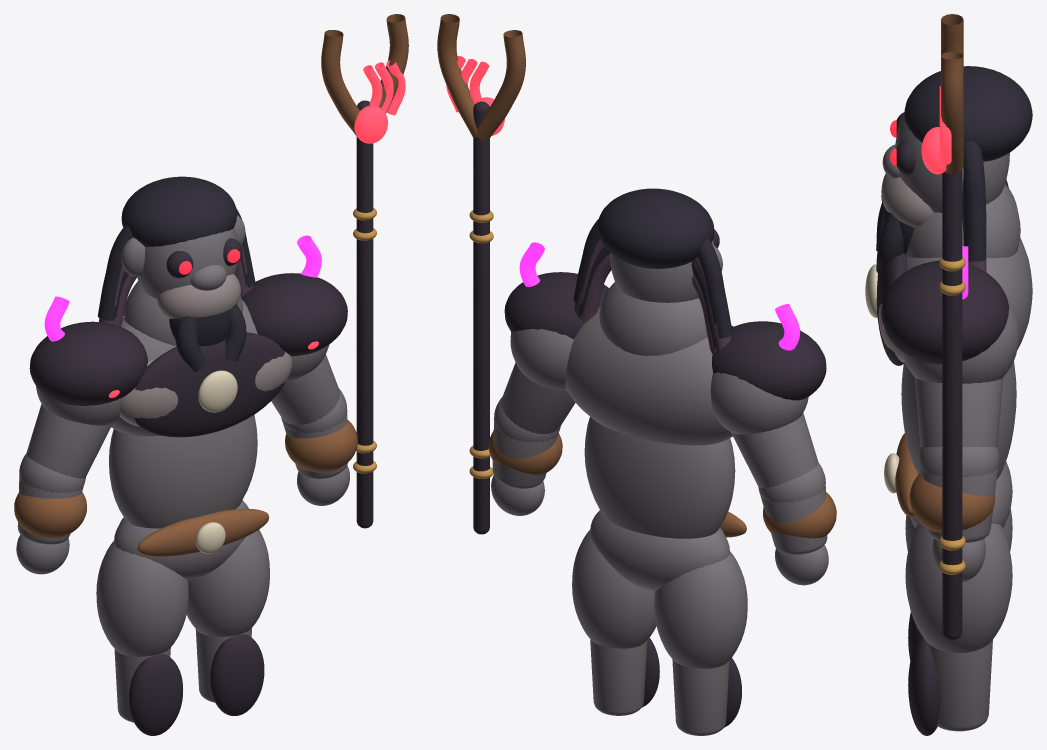
Rendered from HadesModel.fbx.
The picture shows the model from 3 angles, left to right: view 1: azimuth 30°, elevation 25°; view 2: azimuth 150°, elevation 25°; view 3: azimuth 270°, elevation 25°; orthographic projection. The views are drawn at different scales.
Parts seen in each view (by area): view 1: Abdomen, Thigh, Black Chest Armour, Massive Shoulder Armour, Bident Shaft, Massive Shoulder Armour.001, Hair Cap, Thigh.001, Upper Arm, Armoured Greave.001, Armoured Greave, Dark Bronze Belt (+33 smaller); view 2: Abdomen, Massive Chest, Thigh, Hair Cap, Bident Shaft, Thigh.001, Massive Shoulder Armour, Pelvis, Neck, Massive Shoulder Armour.001, Shoulder Muscle, Upper Arm (+22 smaller); view 3: Bident Shaft, Massive Shoulder Armour.001, Thigh.001, Hair Cap, Lower Leg.001, Upper Arm.001, Neck, Shoulder Muscle.001, Abdomen, Head, Long Hair Strand.004, Massive Chest (+23 smaller).
Part boxes in pixels (left/top/right/bottom): Abdomen: left=109, top=415, right=257, bottom=528; Thigh: left=96, top=541, right=188, bottom=656; Black Chest Armour: left=135, top=332, right=284, bottom=437; Massive Shoulder Armour: left=29, top=321, right=147, bottom=405; Bident Shaft: left=356, top=100, right=373, bottom=528; Massive Shoulder Armour.001: left=241, top=273, right=347, bottom=356; Hair Cap: left=121, top=176, right=236, bottom=246; Thigh.001: left=186, top=529, right=269, bottom=636; Upper Arm: left=26, top=404, right=112, bottom=478; Armoured Greave.001: left=210, top=634, right=264, bottom=715; Armoured Greave: left=129, top=654, right=183, bottom=735; Dark Bronze Belt: left=137, top=508, right=269, bottom=556; Abdomen: left=584, top=417, right=735, bottom=538; Massive Chest: left=565, top=307, right=732, bottom=445; Thigh: left=654, top=551, right=747, bottom=668; Hair Cap: left=597, top=188, right=714, bottom=268; Bident Shaft: left=473, top=101, right=489, bottom=534; Thigh.001: left=572, top=530, right=656, bottom=648; Massive Shoulder Armour: left=712, top=321, right=826, bottom=400; Pelvis: left=590, top=510, right=729, bottom=591; Neck: left=599, top=282, right=707, bottom=355; Massive Shoulder Armour.001: left=504, top=272, right=608, bottom=338; Shoulder Muscle: left=710, top=372, right=808, bottom=434; Upper Arm: left=731, top=413, right=818, bottom=488; Bident Shaft: left=942, top=170, right=962, bottom=640; Massive Shoulder Armour.001: left=881, top=260, right=1009, bottom=364; Thigh.001: left=905, top=523, right=1012, bottom=652; Hair Cap: left=904, top=66, right=1032, bottom=161; Lower Leg.001: left=925, top=640, right=992, bottom=731; Upper Arm.001: left=914, top=377, right=1003, bottom=447; Neck: left=906, top=184, right=1020, bottom=258; Shoulder Muscle.001: left=901, top=300, right=1019, bottom=383; Abdomen: left=901, top=361, right=1016, bottom=479; Head: left=895, top=113, right=1009, bottom=212; Long Hair Strand.004: left=963, top=141, right=986, bottom=261; Massive Chest: left=907, top=238, right=1032, bottom=349.
Size of what is drawn, in the model's own units: 402 by 641 by 125.
